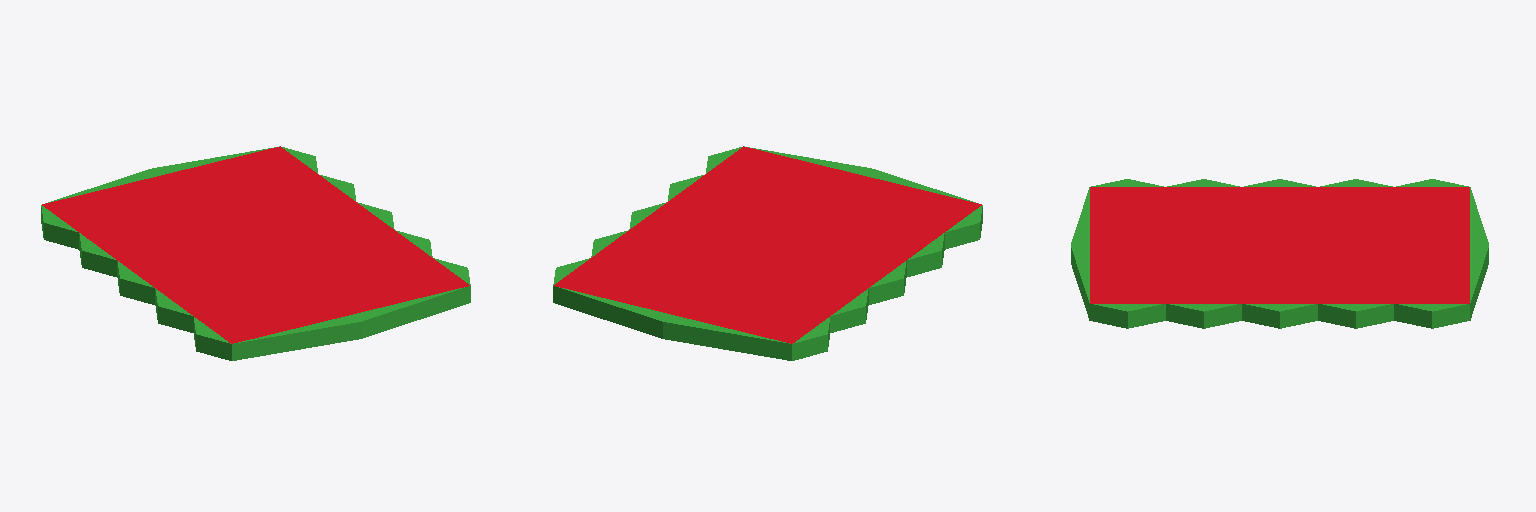
The model's file is tinker.obj.
The picture shows the model from 3 angles: view 1: azimuth 30°, elevation 25°; view 2: azimuth 150°, elevation 25°; view 3: azimuth 270°, elevation 25°; orthographic projection.
Visible parts, largest first — view 1: obj_0; view 2: obj_0; view 3: obj_0.
Part boxes in pixels (x1,y1,x2,y2): obj_0: (41, 146, 470, 360); obj_0: (553, 146, 982, 360); obj_0: (1071, 179, 1488, 328).
Size of the model in its own units: 33 by 2.5 by 44.